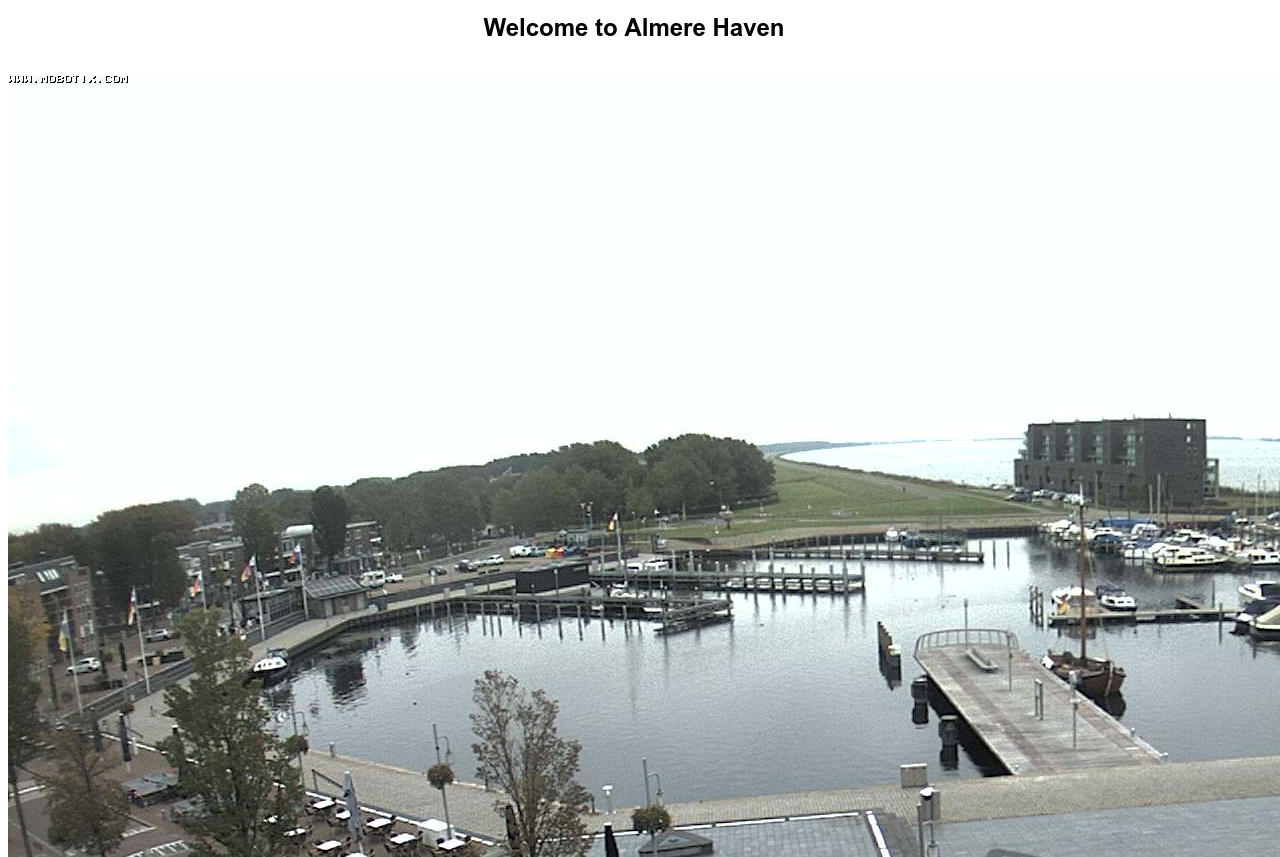maybe: (237, 551, 258, 586), (187, 566, 206, 598)
no: (53, 604, 76, 656), (125, 579, 141, 630)
